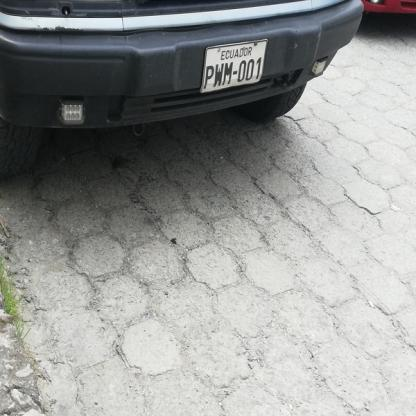Placa: (203, 40, 265, 96)
